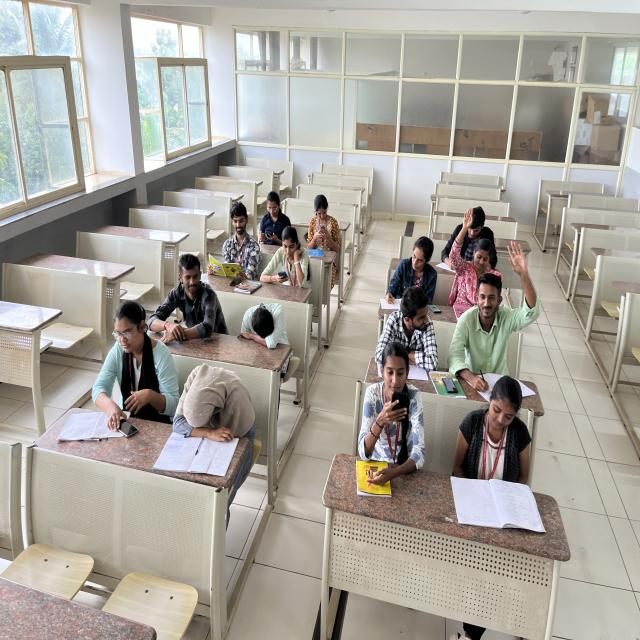Hand Rising: (459, 238, 536, 376), (448, 207, 497, 300)
Reading: (453, 366, 531, 498), (207, 198, 262, 282)
Sleeping: (174, 348, 257, 453), (236, 297, 290, 349)
Using Phone: (354, 339, 431, 478), (264, 226, 313, 284), (304, 192, 347, 256), (253, 190, 297, 243)
Writing: (382, 228, 442, 312)
